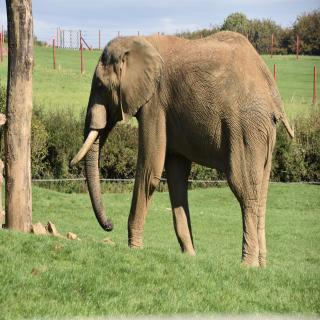Elephant: (68, 29, 300, 275)
